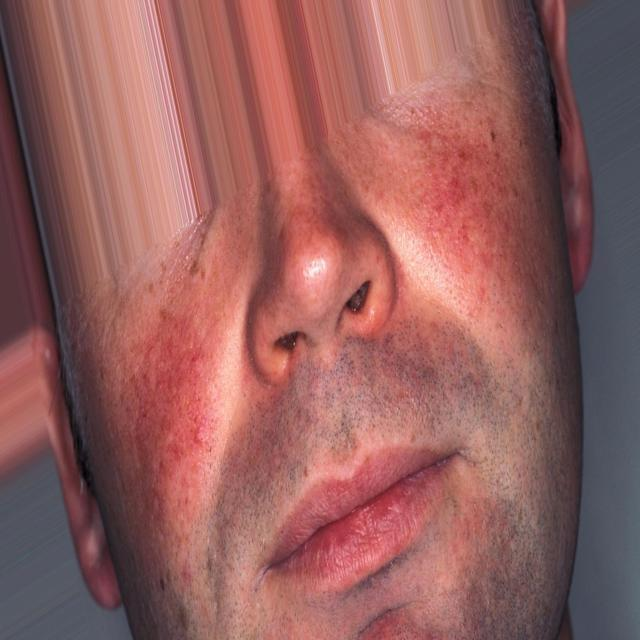Rosacea: (121, 303, 228, 533), (396, 120, 516, 279)
